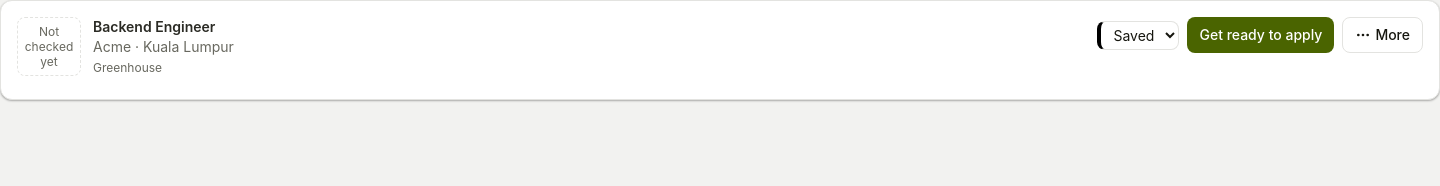
a job card › has no Check my fit or Tailor my CV when there is nothing to read
Expected: the link "Get ready to apply" is shown, [1188,17,1334,53]
Click the button with aria-label "More actions".
click(1383, 35)  # box [1342,17,1423,53]
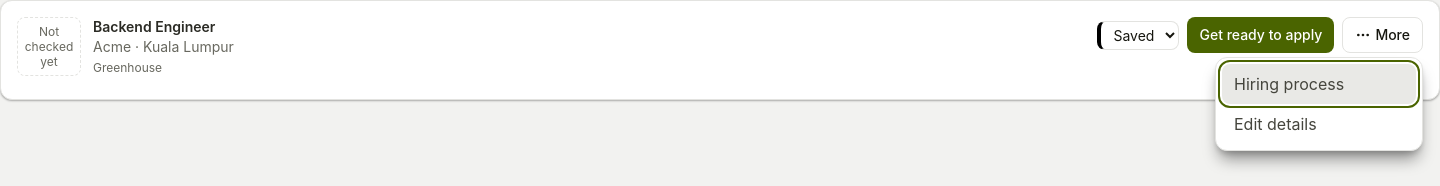
Expected: the menu items read "Hiring process", "Edit details", in this order, [1222,64,1416,104]; [1234,114,1317,134]
